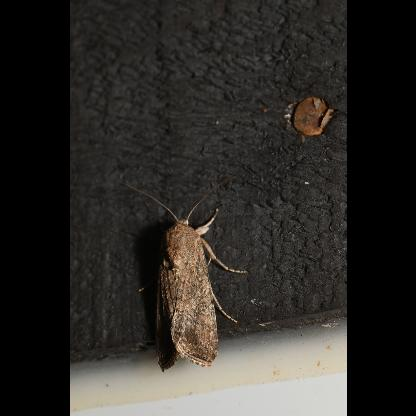Fall Armyworm Moth: (118, 174, 260, 374)
